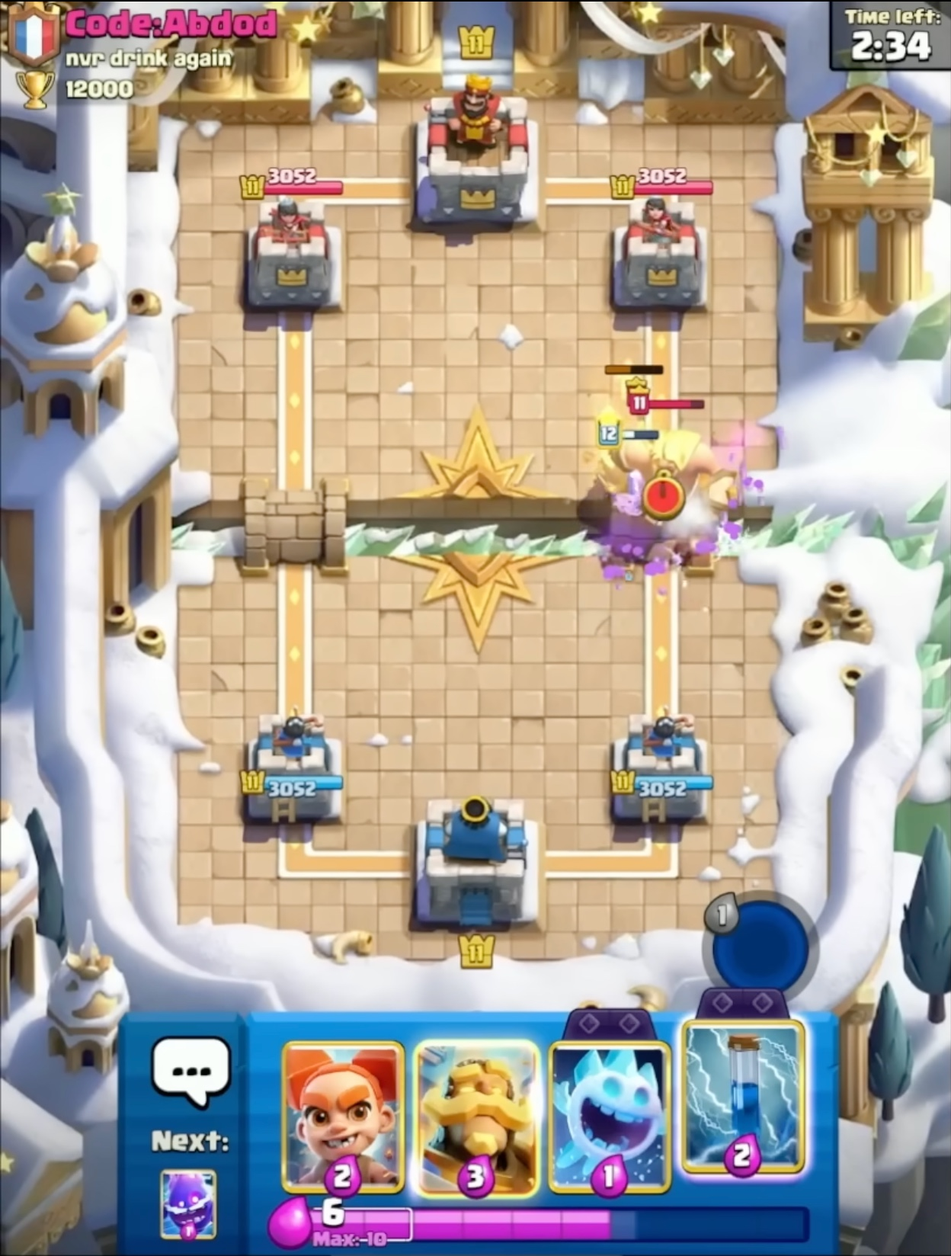hero-giant: (596, 393, 740, 546)
